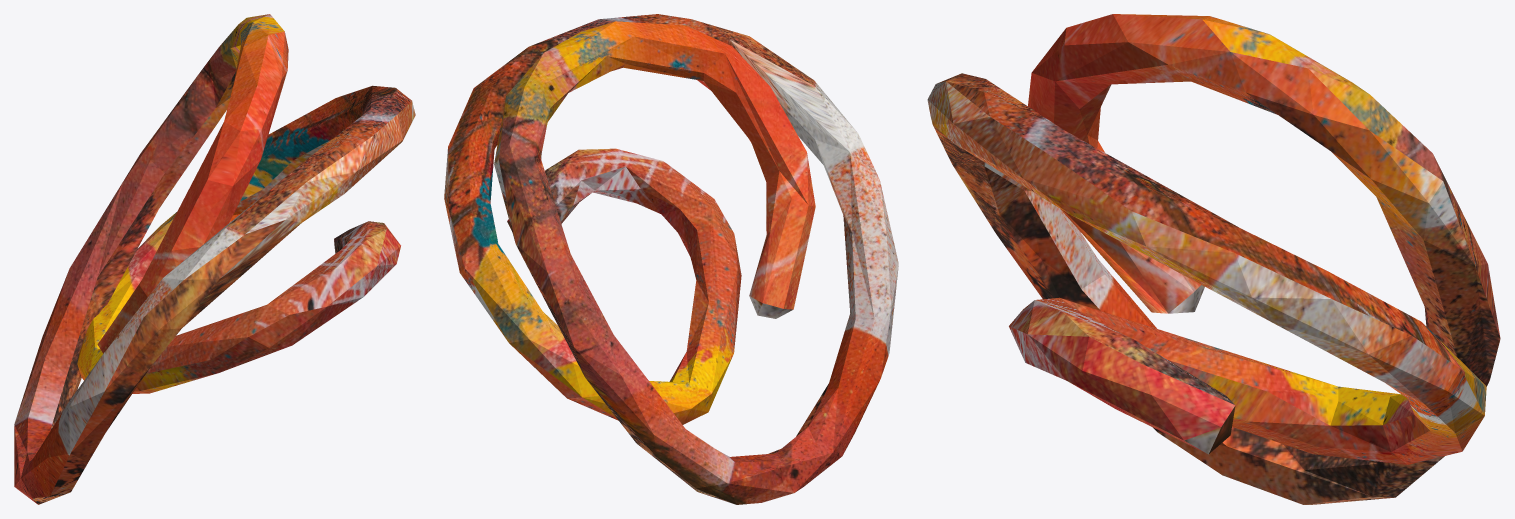
The model's file is spiral02_texture.glb.
3 renders of one model, left to right at view 1: azimuth 30°, elevation 25°; view 2: azimuth 150°, elevation 25°; view 3: azimuth 270°, elevation 25°, orthographic. The views are drawn at different scales.
Parts seen in each view (by area): view 1: gesture.002; view 2: gesture.002; view 3: gesture.002.
Part boxes in pixels (<box>): gesture.002: <box>14,14,415,504</box>; gesture.002: <box>444,14,898,504</box>; gesture.002: <box>927,14,1500,504</box>.
Size of the model in its own units: 0.9071 by 0.9515 by 0.7974.
1 material, 1 textured.
